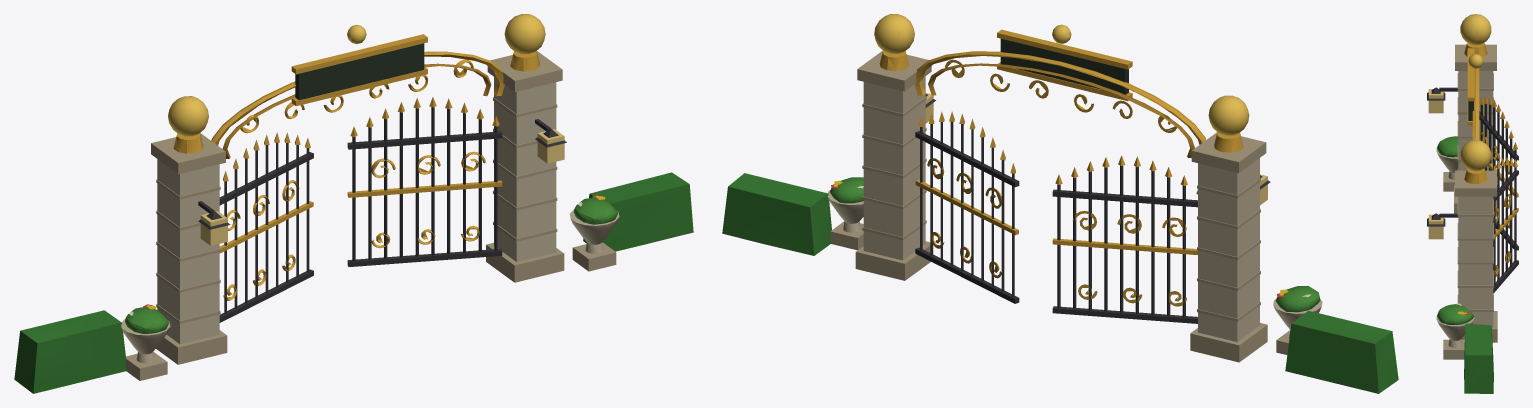
The model's file is golden_gate.glb.
The picture shows the model from 3 angles, left to right: view 1: azimuth 30°, elevation 25°; view 2: azimuth 150°, elevation 25°; view 3: azimuth 270°, elevation 25°; orthographic projection. The views are drawn at different scales.
Parts seen in each view (by area): view 1: decor-golden_gate, decor-golden_gate-far; view 2: decor-golden_gate, decor-golden_gate-far; view 3: decor-golden_gate, decor-golden_gate-far.
Boxes of the visible parts, box(x1,y1,x2,y2) form: decor-golden_gate: box(122, 14, 693, 380); decor-golden_gate-far: box(14, 14, 688, 393); decor-golden_gate: box(723, 14, 1321, 357); decor-golden_gate-far: box(722, 15, 1398, 393); decor-golden_gate: box(1428, 14, 1518, 393); decor-golden_gate-far: box(1427, 16, 1518, 393).
Size of the model in its own units: 10.02 by 4.08 by 1.57.
